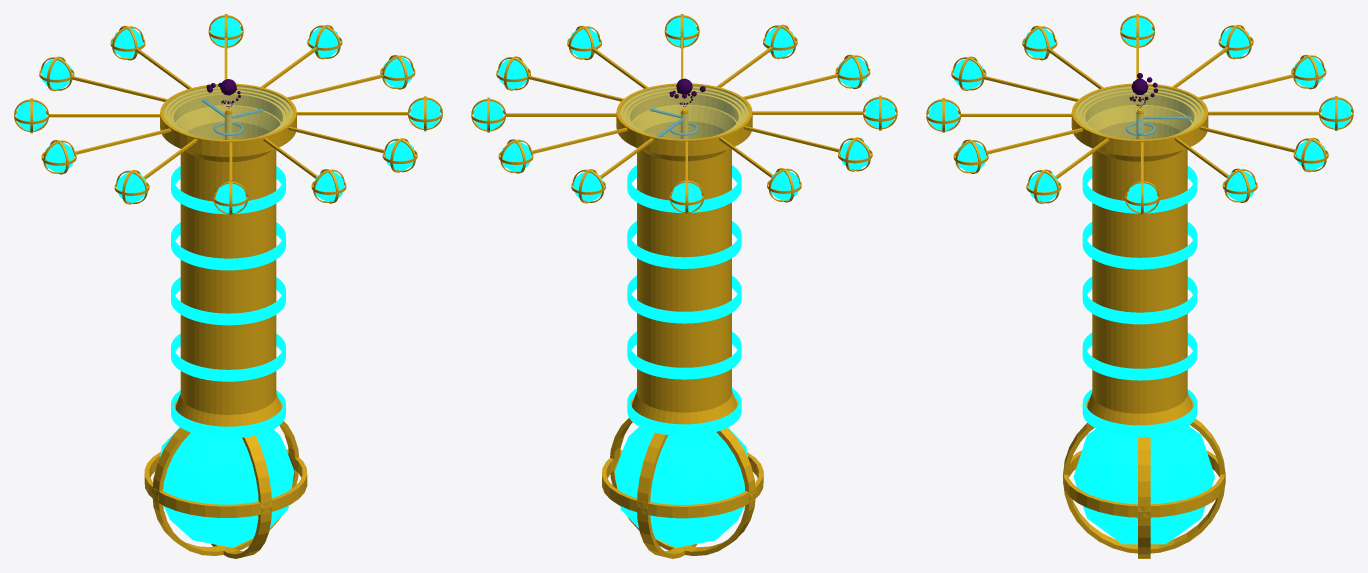
Rendered from time_station.glb.
The picture shows the model from 3 angles, left to right: view 1: azimuth 30°, elevation 25°; view 2: azimuth 150°, elevation 25°; view 3: azimuth 270°, elevation 25°; orthographic projection.
Parts seen in each view (by area): view 1: Cylinder, Cylinder.009, Icosphere.004, Cylinder.010, Cylinder.007, Cylinder.006, Cylinder.005, Cylinder.003, Cylinder.004, Cylinder.002; view 2: Cylinder, Cylinder.009, Icosphere.004, Cylinder.010, Cylinder.007, Cylinder.003, Cylinder.006, Cylinder.005, Cylinder.004, Cylinder.002; view 3: Cylinder, Cylinder.009, Icosphere.004, Cylinder.010, Cylinder.007, Cylinder.003, Cylinder.006, Cylinder.005, Cylinder.004, Cylinder.002.
Boxes of the visible parts, x1,y1,x2,y2 form: Cylinder: (160, 83, 296, 426); Cylinder.009: (14, 14, 442, 215); Icosphere.004: (160, 427, 294, 547); Cylinder.010: (144, 421, 307, 558); Cylinder.007: (164, 86, 292, 139); Cylinder.006: (171, 333, 285, 381); Cylinder.005: (171, 222, 285, 270); Cylinder.003: (171, 277, 285, 325); Cylinder.004: (171, 390, 285, 438); Cylinder.002: (171, 166, 285, 214); Cylinder: (616, 83, 752, 424); Cylinder.009: (471, 14, 897, 214); Icosphere.004: (614, 427, 748, 547); Cylinder.010: (602, 418, 763, 558); Cylinder.007: (620, 85, 748, 138); Cylinder.003: (627, 275, 741, 323); Cylinder.006: (627, 332, 741, 379); Cylinder.005: (627, 221, 741, 268); Cylinder.004: (627, 388, 741, 435); Cylinder.002: (627, 165, 741, 212); Cylinder: (1071, 83, 1208, 425); Cylinder.009: (926, 14, 1353, 214); Icosphere.004: (1073, 426, 1214, 544); Cylinder.010: (1063, 419, 1225, 558); Cylinder.007: (1075, 86, 1204, 139); Cylinder.003: (1082, 276, 1197, 324); Cylinder.006: (1082, 332, 1197, 380); Cylinder.005: (1082, 222, 1197, 269); Cylinder.004: (1082, 389, 1197, 437); Cylinder.002: (1082, 166, 1197, 213).
Size of the model in its own units: 113 by 138 by 113.
